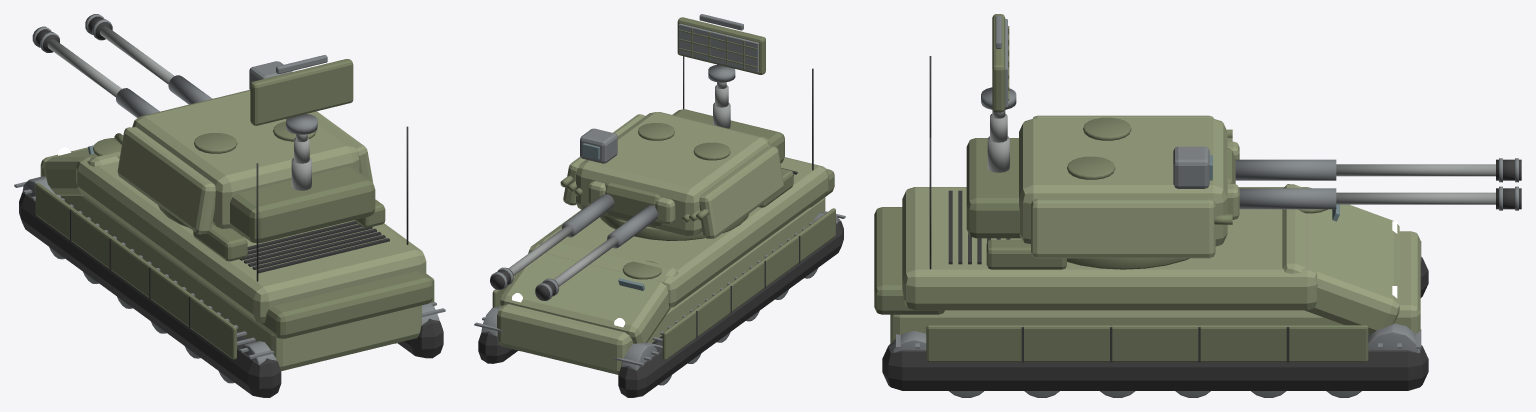
File: sys_korkut.glb
The picture shows the model from 3 angles, left to right: view 1: azimuth 30°, elevation 25°; view 2: azimuth 150°, elevation 25°; view 3: azimuth 270°, elevation 25°; orthographic projection. The views are drawn at different scales.
Visible parts, largest first — view 1: Cube.001, Cube.086, Cube, Cube.089, Cube.040, Cube.011, Cube.003, Cube.088, Cube.095, Cube.002, Cube.047, Cube.048 (+20 smaller); view 2: Cube.086, Cube.001, Cube.002, Cube, Cube.040, Cube.011, Cube.088, Cube.096, Cube.092, Cube.095, Cube.089, Cube.090 (+16 smaller); view 3: Cube.001, Cube.048, Cube.077, Cube.086, Cube.087, Cube.002, Cube, Cube.089, Cube.003, Cylinder.042, Cylinder.047, Cylinder.043 (+10 smaller).
Part boxes in pixels (left/top/right/bottom): Cube.001: left=76, top=155, right=426, bottom=322; Cube.086: left=132, top=90, right=359, bottom=229; Cube: left=40, top=147, right=421, bottom=371; Cube.089: left=230, top=166, right=375, bottom=243; Cube.040: left=35, top=183, right=236, bottom=359; Cube.011: left=19, top=192, right=281, bottom=397; Cube.003: left=252, top=271, right=432, bottom=338; Cube.088: left=117, top=127, right=215, bottom=234; Cube.095: left=250, top=59, right=353, bottom=125; Cube.002: left=44, top=148, right=120, bottom=195; Cube.047: left=193, top=224, right=247, bottom=261; Cube.048: left=397, top=318, right=443, bottom=358; Cube.086: left=576, top=112, right=771, bottom=236; Cube.001: left=528, top=157, right=828, bottom=307; Cube.002: left=500, top=237, right=678, bottom=343; Cube: left=497, top=197, right=825, bottom=374; Cube.040: left=662, top=208, right=835, bottom=360; Cube.011: left=618, top=220, right=843, bottom=397; Cube.088: left=699, top=146, right=783, bottom=238; Cube.096: left=678, top=23, right=758, bottom=72; Cube.092: left=604, top=182, right=662, bottom=226; Cube.095: left=677, top=17, right=765, bottom=74; Cube.089: left=672, top=109, right=784, bottom=163; Cube.090: left=580, top=128, right=617, bottom=163; Cube.001: left=902, top=187, right=1317, bottom=310; Cube.048: left=882, top=343, right=1428, bottom=390; Cube.077: left=926, top=325, right=1368, bottom=361; Cube.086: left=1019, top=118, right=1227, bottom=246; Cube.087: left=1031, top=198, right=1215, bottom=258; Cube.002: left=1282, top=184, right=1399, bottom=334; Cube: left=890, top=231, right=1420, bottom=343; Cube.089: left=966, top=138, right=1020, bottom=238; Cube.003: left=874, top=207, right=944, bottom=314; Cylinder.042: left=1235, top=159, right=1336, bottom=180; Cylinder.047: left=1239, top=188, right=1336, bottom=209; Cylinder.043: left=1336, top=164, right=1495, bottom=176.
Size of what is drawn, in the model's own units: 3.25 by 4.41 by 8.06.
